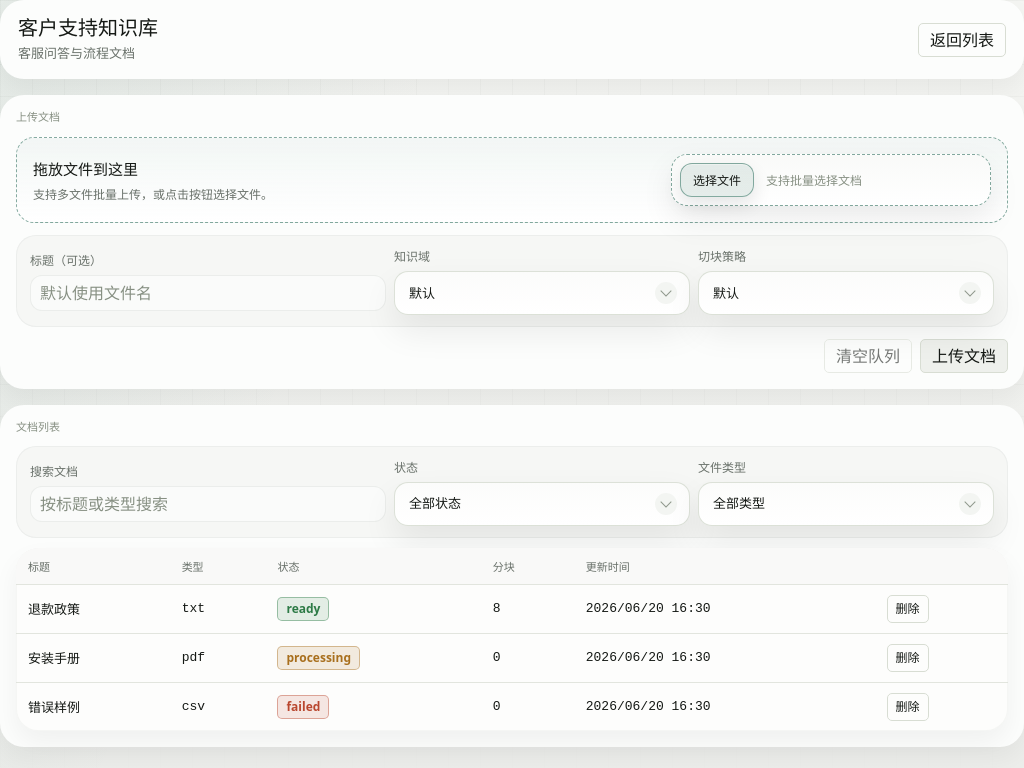
Test case: KnowledgeDetailPage document list filters and actions › filters documents by search keyword, status, and file type
Expected: the row with test id "document-row-31" is shown, [16,584,1008,633]
Expected: the row with test id "document-row-32" is shown, [16,633,1008,682]
Type "安装" into the field labelled "搜索文档".
click(208, 504); type("安装")  # box [30,486,386,522]
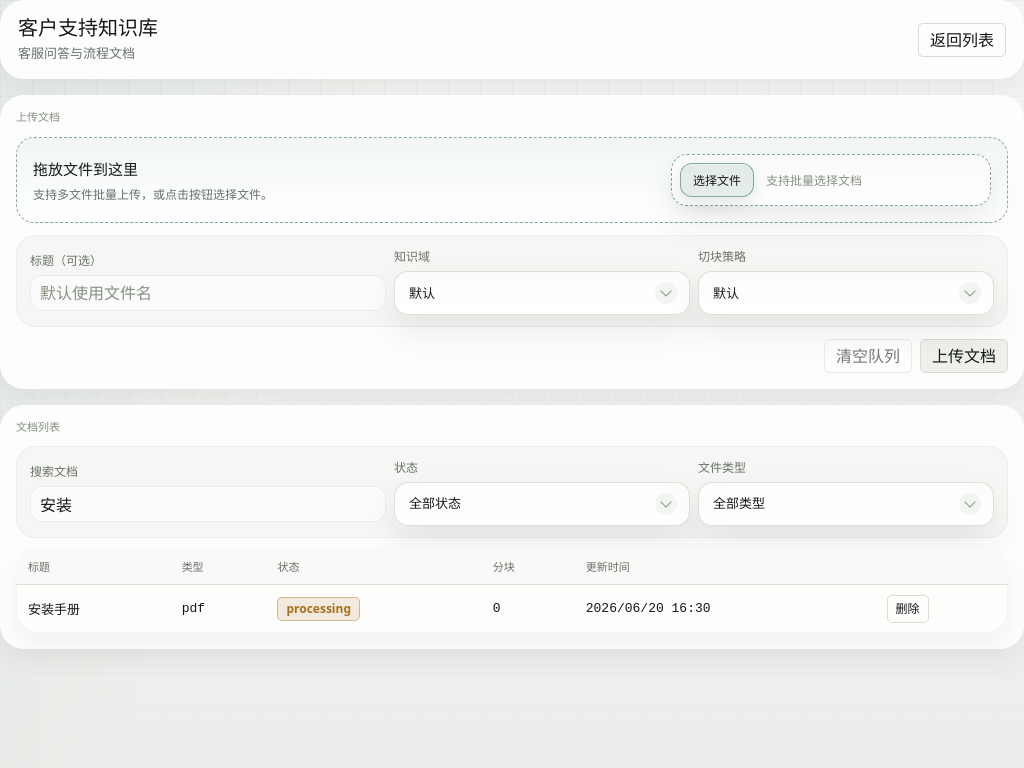
Expected: the row with test id "document-row-32" is shown, [16,584,1008,633]
Expected: the row with test id "document-row-31" is gone
Expected: the row with test id "document-row-33" is gone
Clear the field labelled "搜索文档" at (208, 504), box [30,486,386,522]
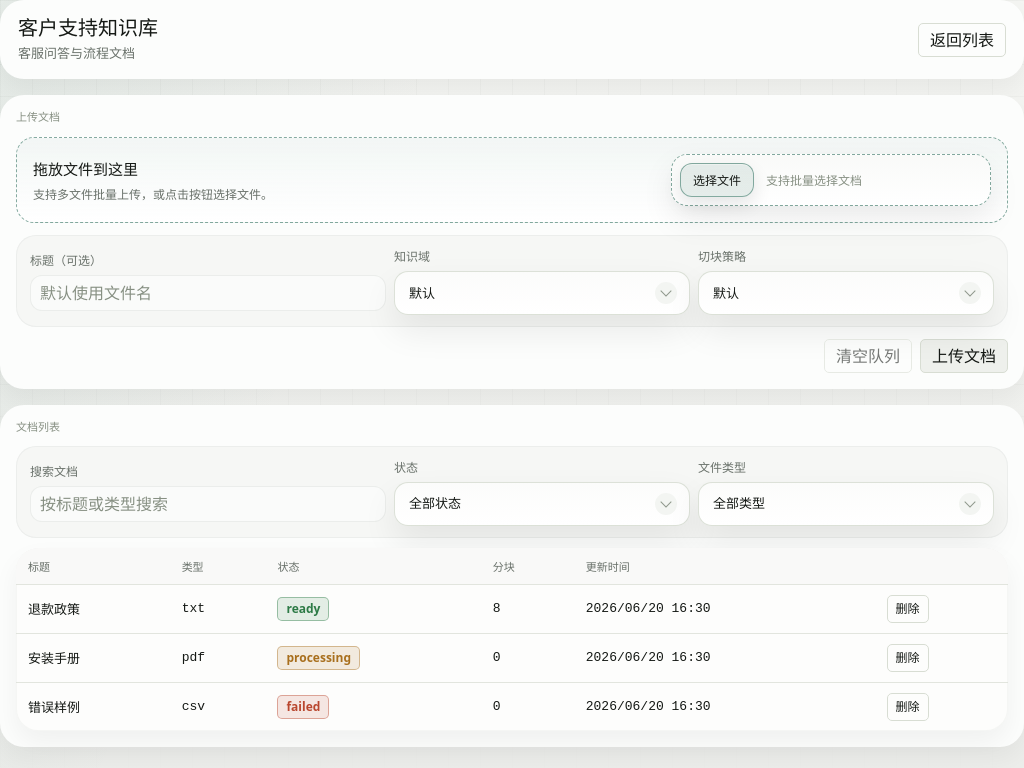
Select "failed" in the dropdown labelled "状态" at (542, 492), box [394,458,690,526]
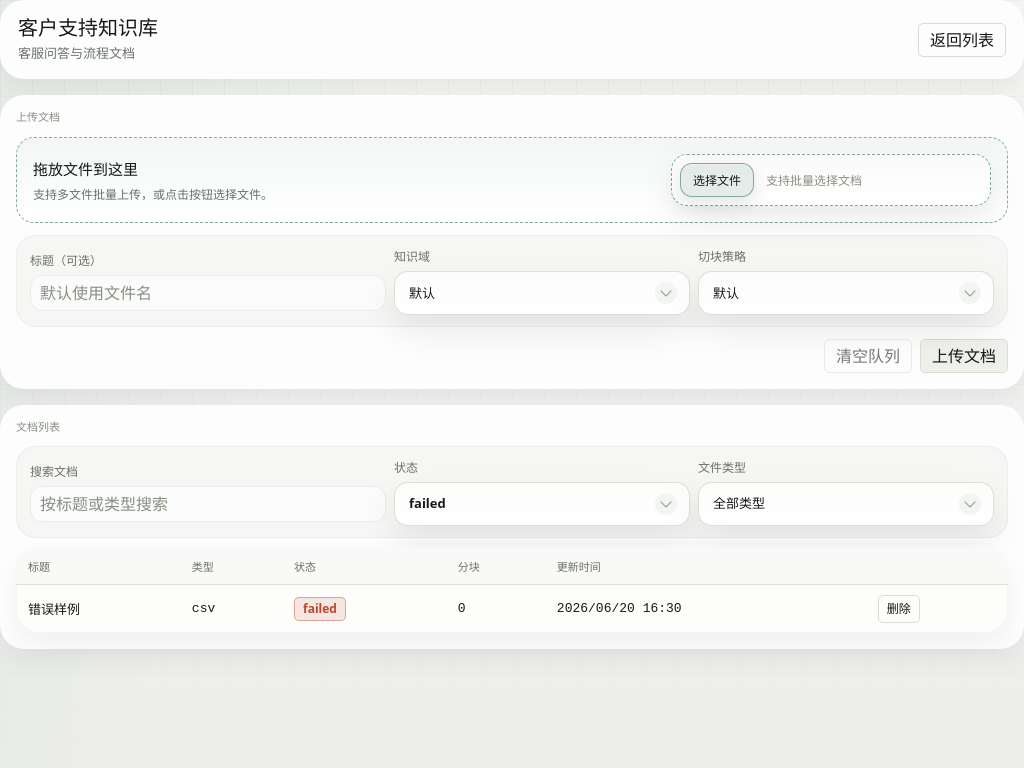
Expected: the row with test id "document-row-33" is shown, [16,584,1008,633]
Expected: the row with test id "document-row-31" is gone
Expected: the row with test id "document-row-32" is gone
Select "全部状态" in the dropdown labelled "状态" at (542, 492), box [394,458,690,526]
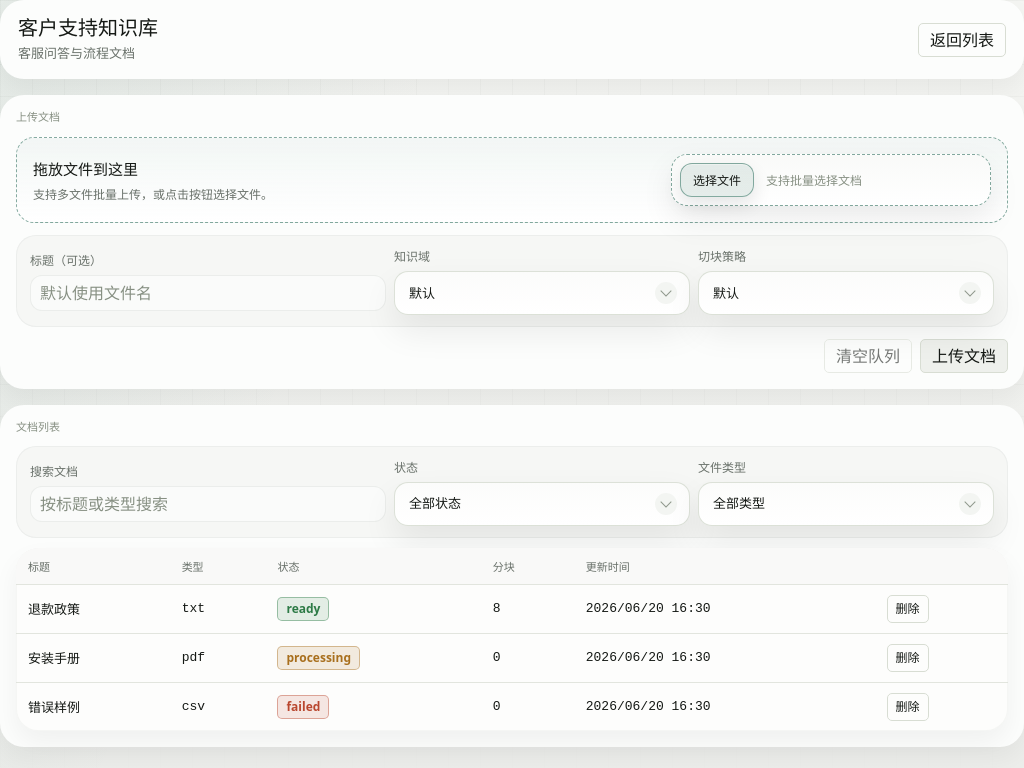
Select "pdf" in the dropdown labelled "文件类型" at (846, 492), box [698,458,994,526]
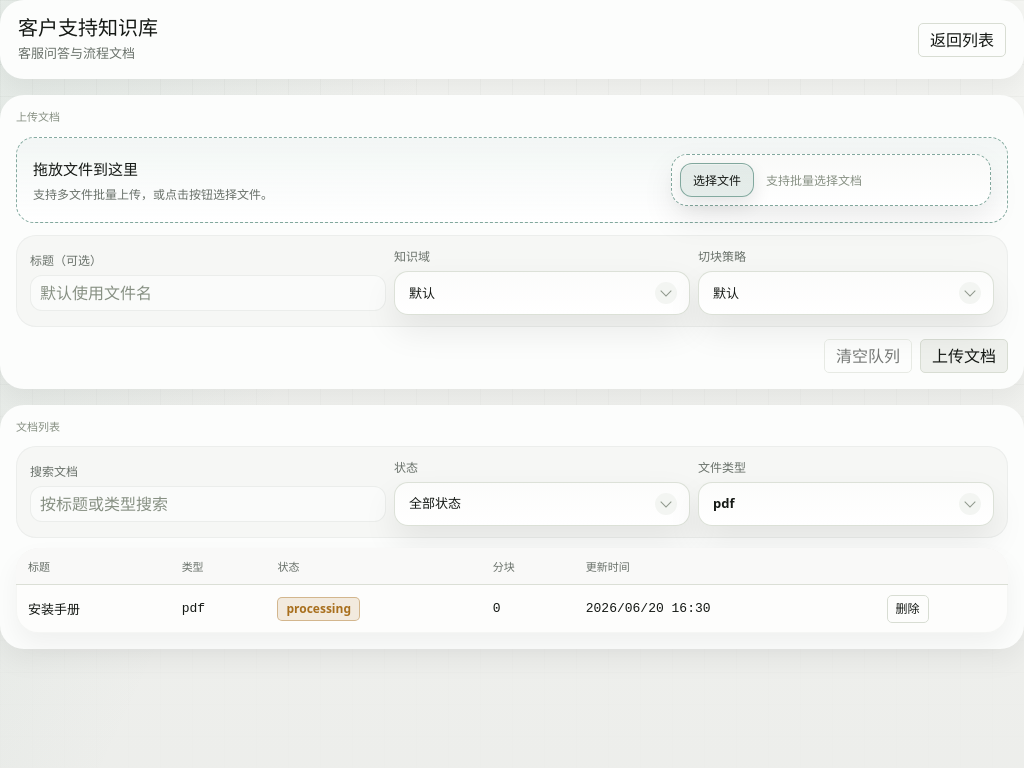
Expected: the row with test id "document-row-32" is shown, [16,584,1008,633]
Expected: the row with test id "document-row-31" is gone
Expected: the row with test id "document-row-33" is gone
